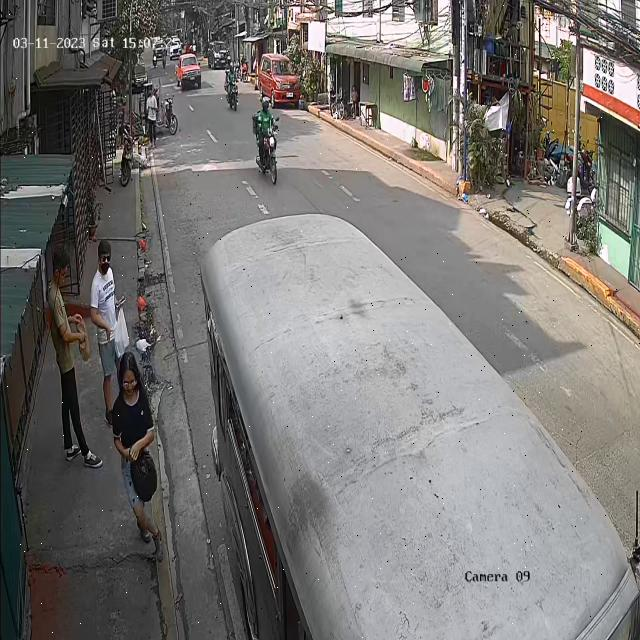human: (49, 247, 102, 469), (110, 350, 163, 563), (92, 242, 129, 424)
trash: (128, 434, 158, 506), (114, 301, 133, 361), (74, 307, 90, 362)
